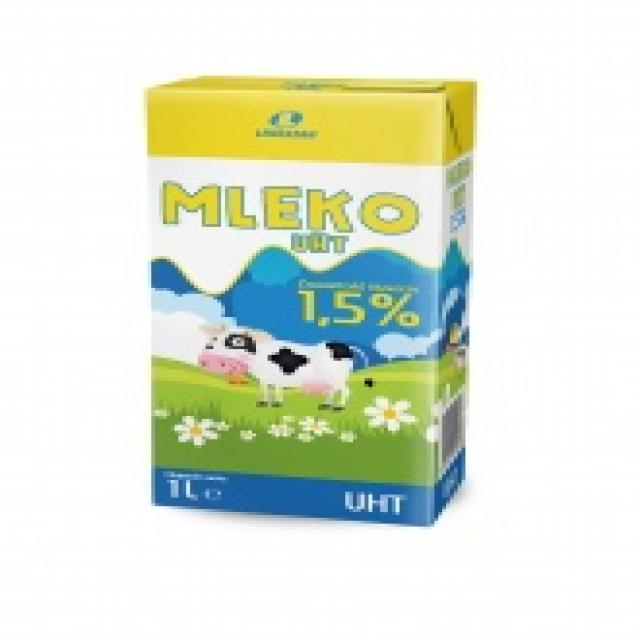non_white_jug: (130, 42, 487, 525)
